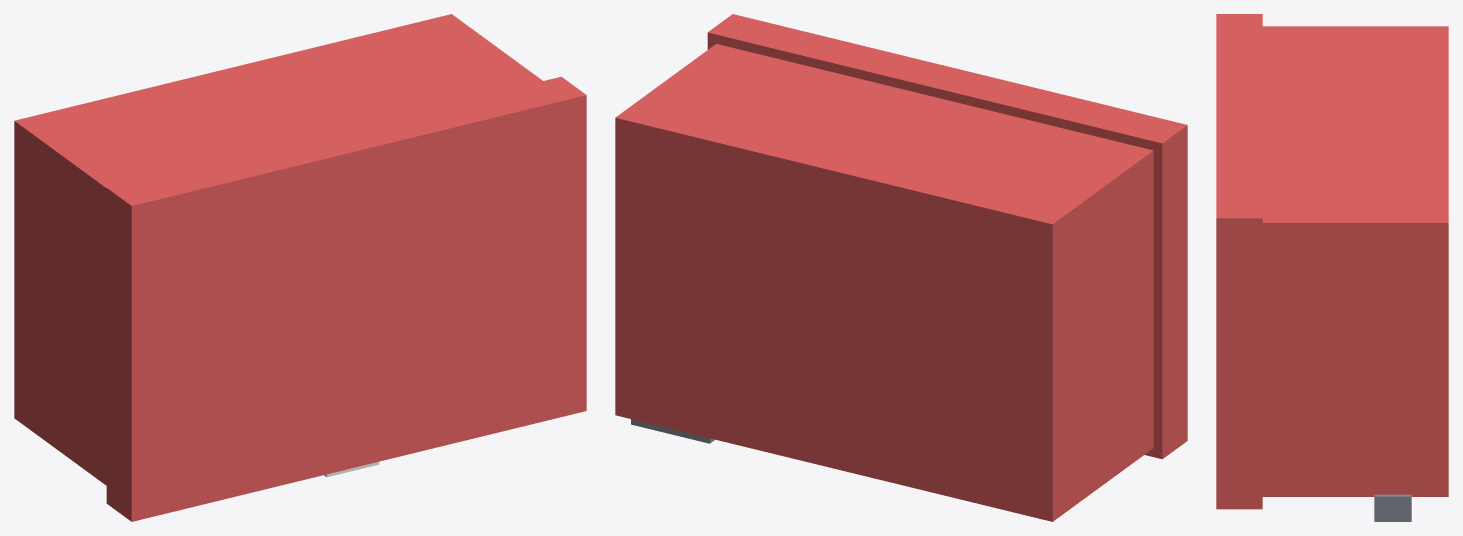
Rendered from 24_medkit_closed.glb.
3 renders of one model, left to right at view 1: azimuth 30°, elevation 25°; view 2: azimuth 150°, elevation 25°; view 3: azimuth 270°, elevation 25°, orthographic. The views are drawn at different scales.
Visible parts, largest first — view 1: part_2, part_1; view 2: part_1, part_2; view 3: part_1, part_2, part_5.
Part boxes in pixels (x1,y1,x2,y2): part_2: (106,76,586,521); part_1: (14,14,542,485); part_1: (615,44,1153,521); part_2: (707,14,1187,459); part_1: (1262,26,1448,496); part_2: (1216,14,1262,509); part_5: (1374,494,1411,521).
Bounding box in the file's own units: 1.04 × 0.725 × 0.5.
